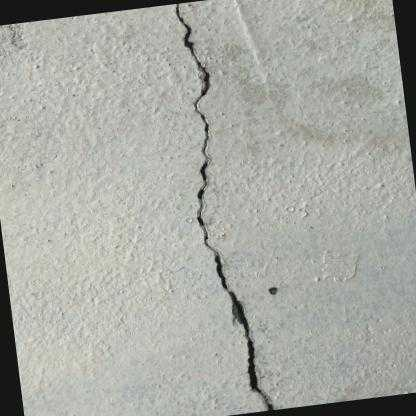crack: (175, 2, 273, 410)
